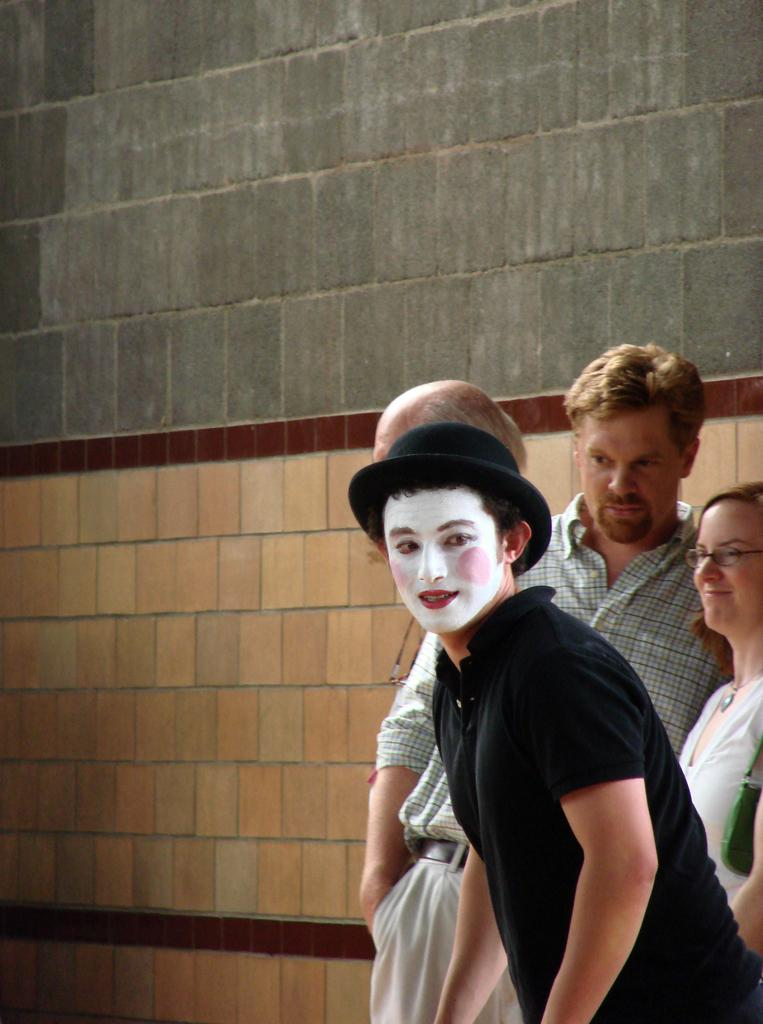Hat: (334, 377, 550, 574)
